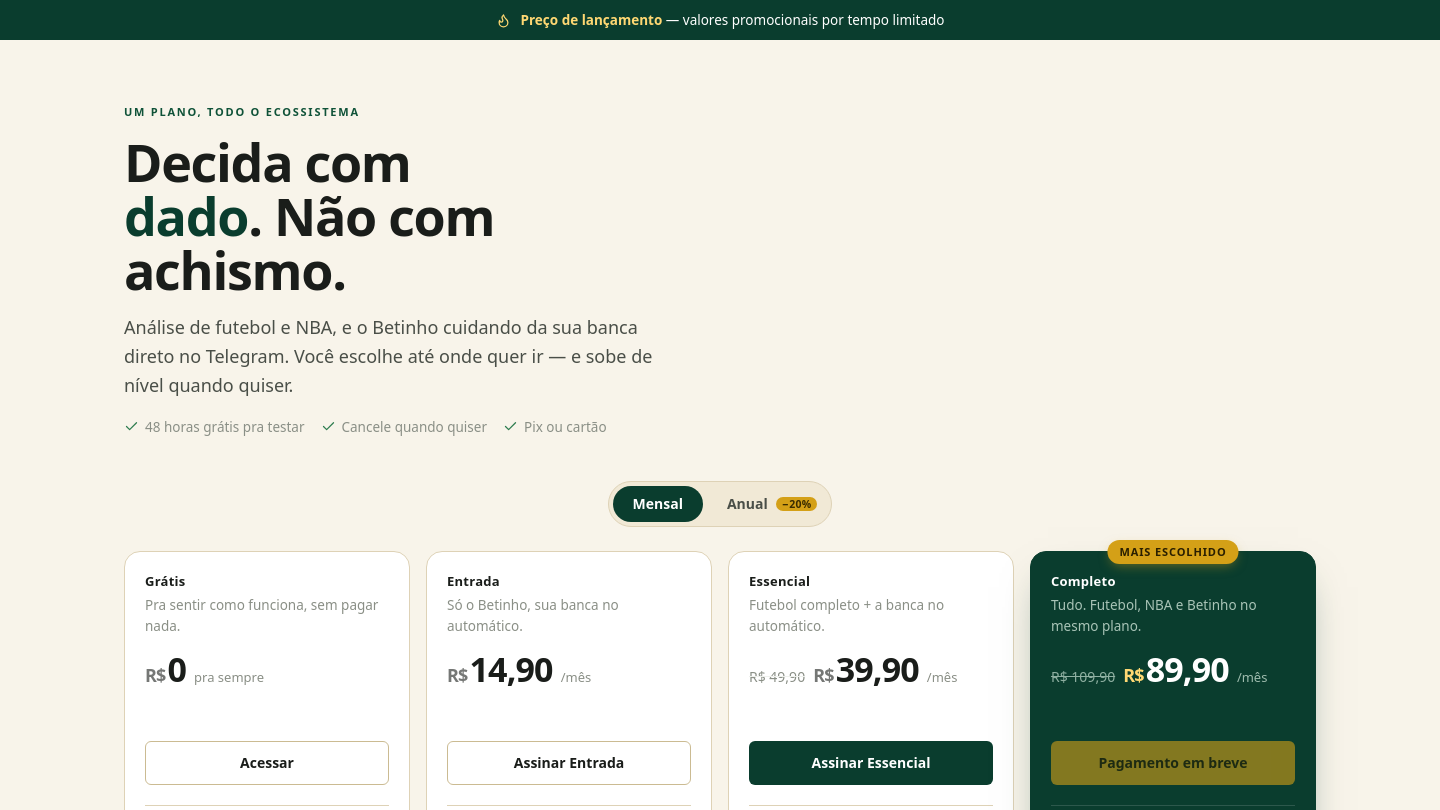
CTAs no modo anual › nenhum plano é comprável no anual — os preços anuais não existem
What coordinates should you click on to do the following:
click the button "Anual −20%"
I would click on:
 (767, 504)
Its box is [707, 486, 828, 522].
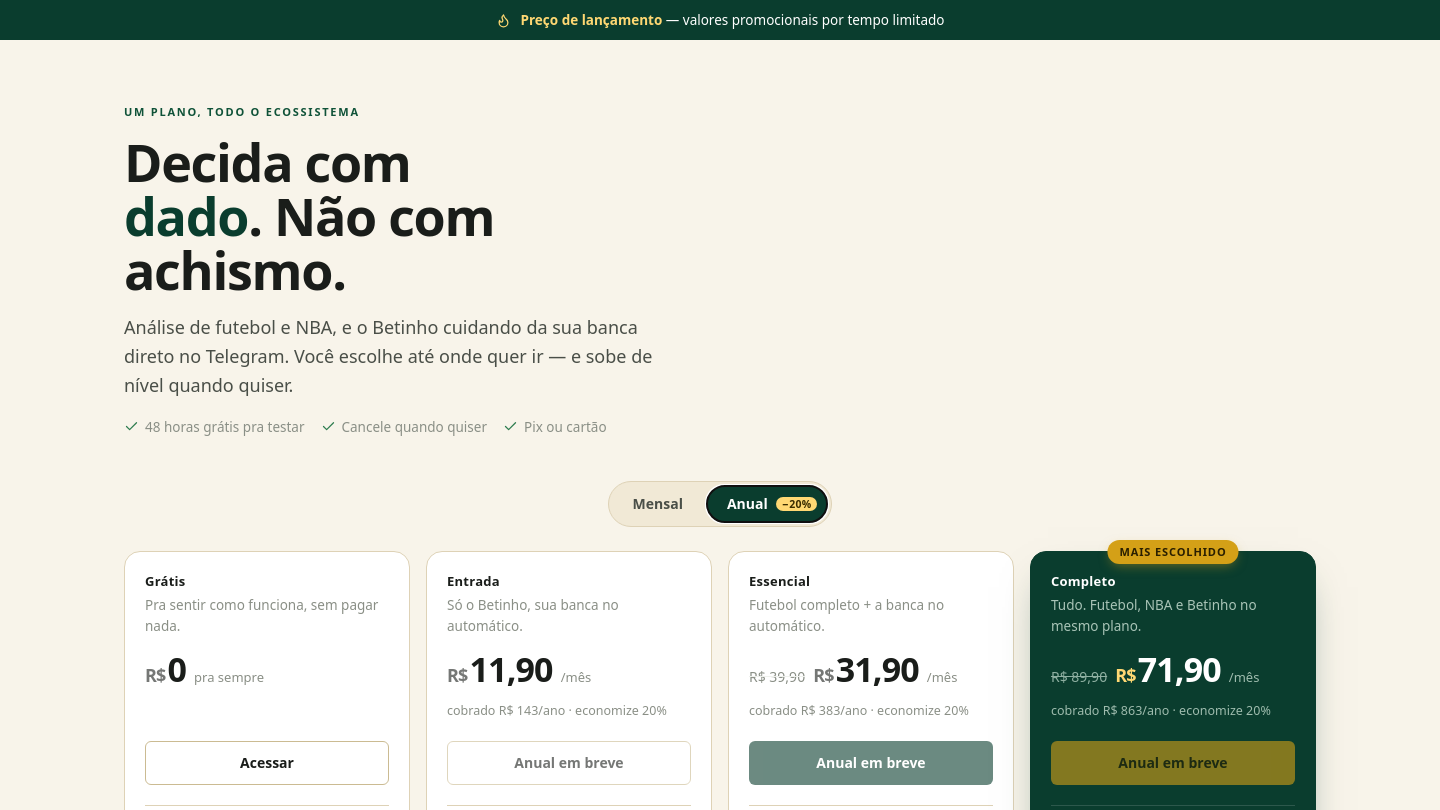
Expected: the number of buttons "Anual em breve" is 3, [447, 742, 691, 786]; [749, 742, 993, 786]; [1051, 742, 1295, 786]
Expected: the button "Anual em breve" below "cobrado R$ 143/ano · economize 20%" is disabled, [447, 742, 691, 786]
Expected: the button "Anual em breve" below "cobrado R$ 383/ano · economize 20%" is disabled, [749, 742, 993, 786]
